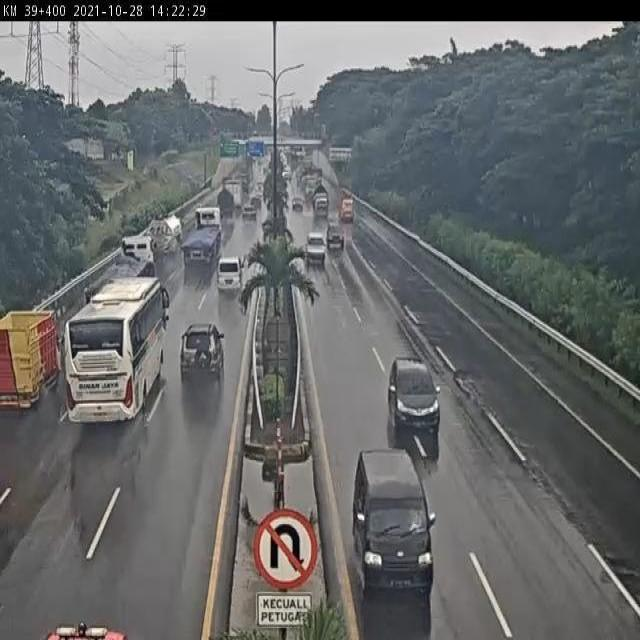Bus: (62, 273, 172, 426)
Car: (384, 357, 444, 439), (178, 322, 224, 382), (327, 223, 346, 249)
Truck: (0, 308, 65, 415), (81, 231, 161, 309), (180, 205, 225, 268), (312, 184, 329, 220)
Van: (351, 445, 437, 600), (217, 255, 244, 292)
